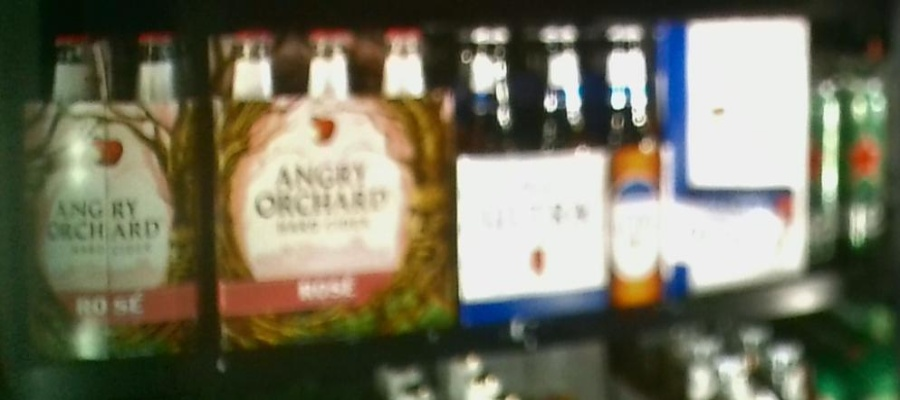bottle: (213, 17, 455, 358), (17, 32, 206, 366), (459, 19, 664, 313), (665, 19, 808, 292)
